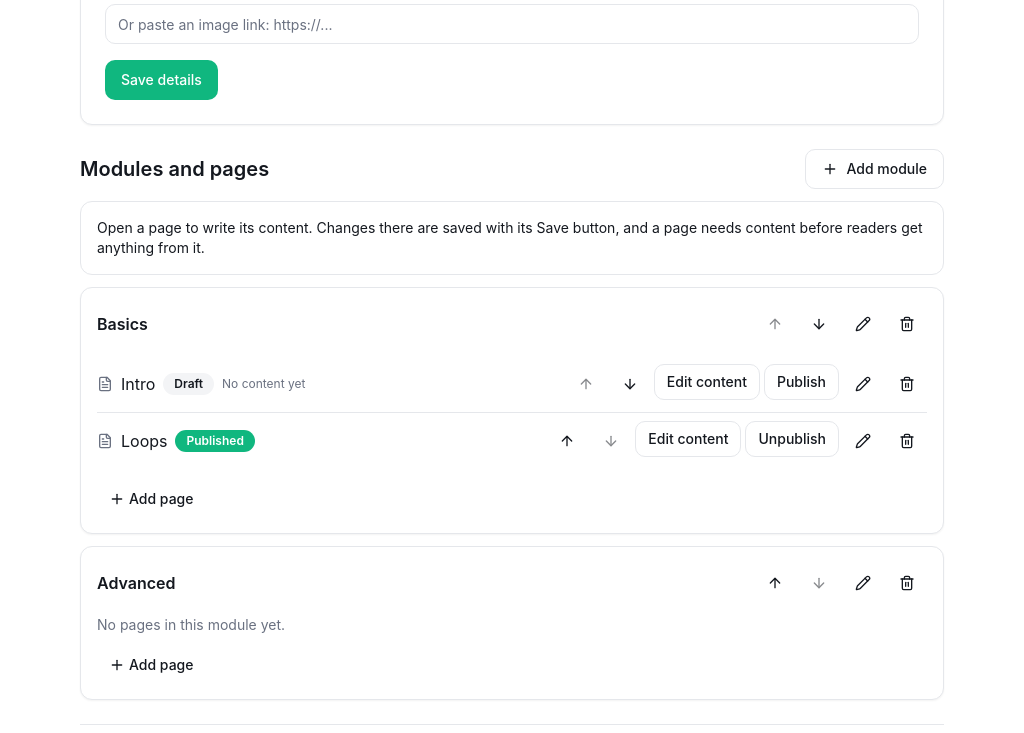
Test: pages › deleting a page asks first
(page scrolled)
What coordinates should you click on to do the following:
click the button named "Delete page Intro"
I would click on:
 (907, 384)
Its box is [887,364,927,404].
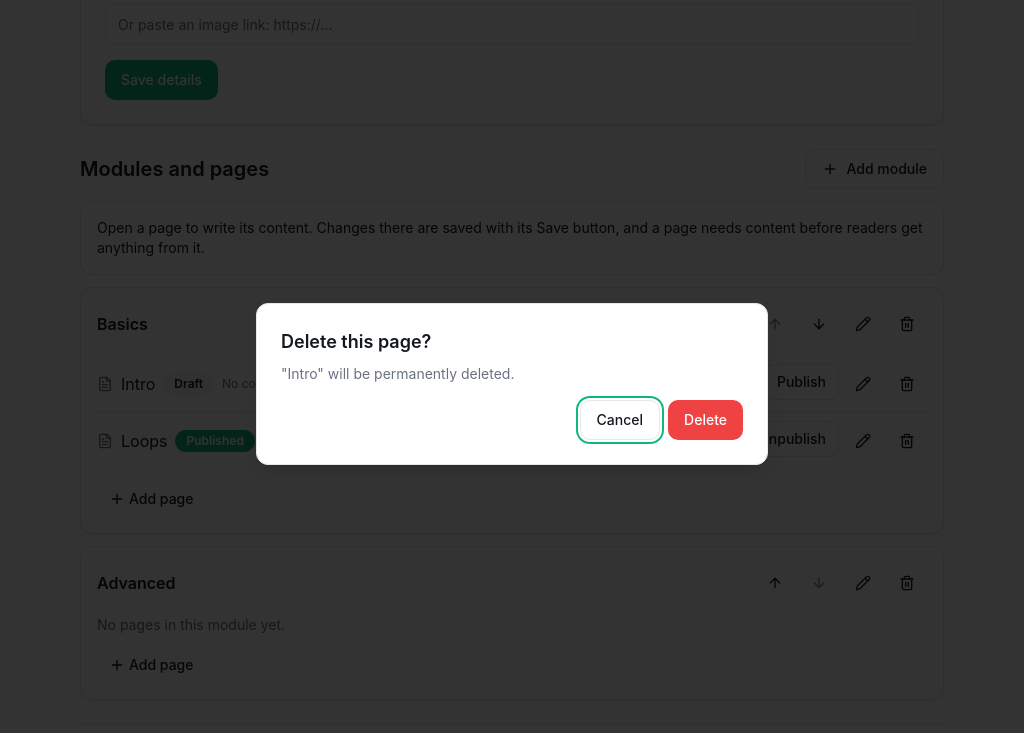
Now the dialog shows "\"Intro\" will be permanently deleted", box [281,365,514,382]
What coordinates should you click on to do the following:
click the button "Delete"
I would click on:
 (706, 420)
Its box is [668,400,743,440].
(page scrolled)
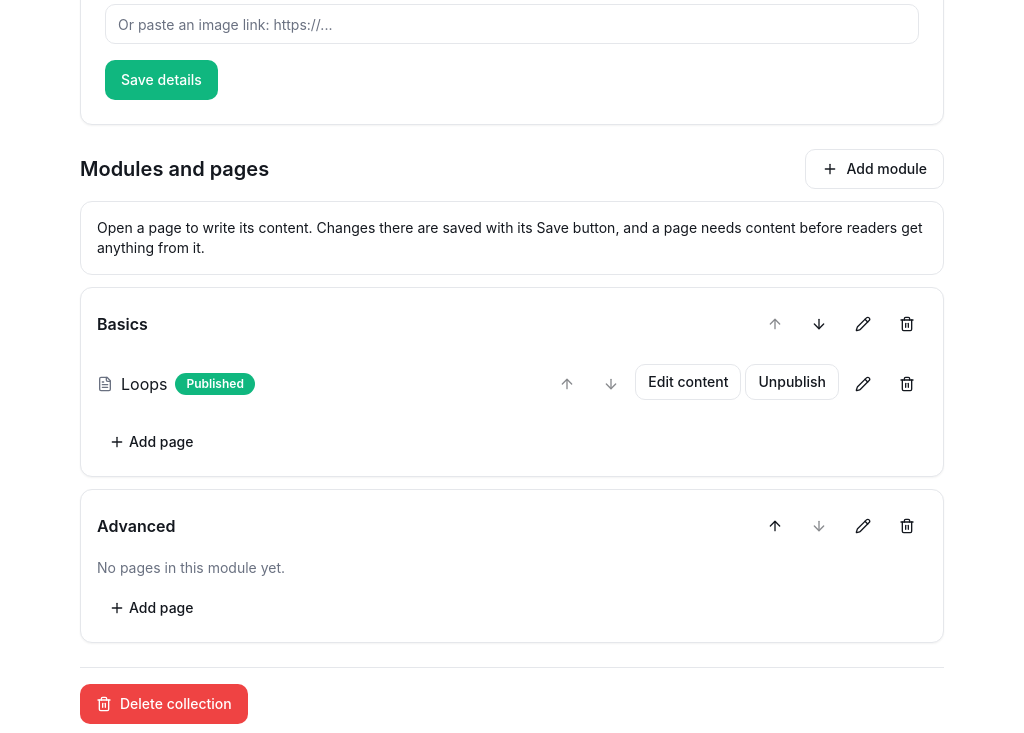
Now the list item with test id "page-9" is gone
